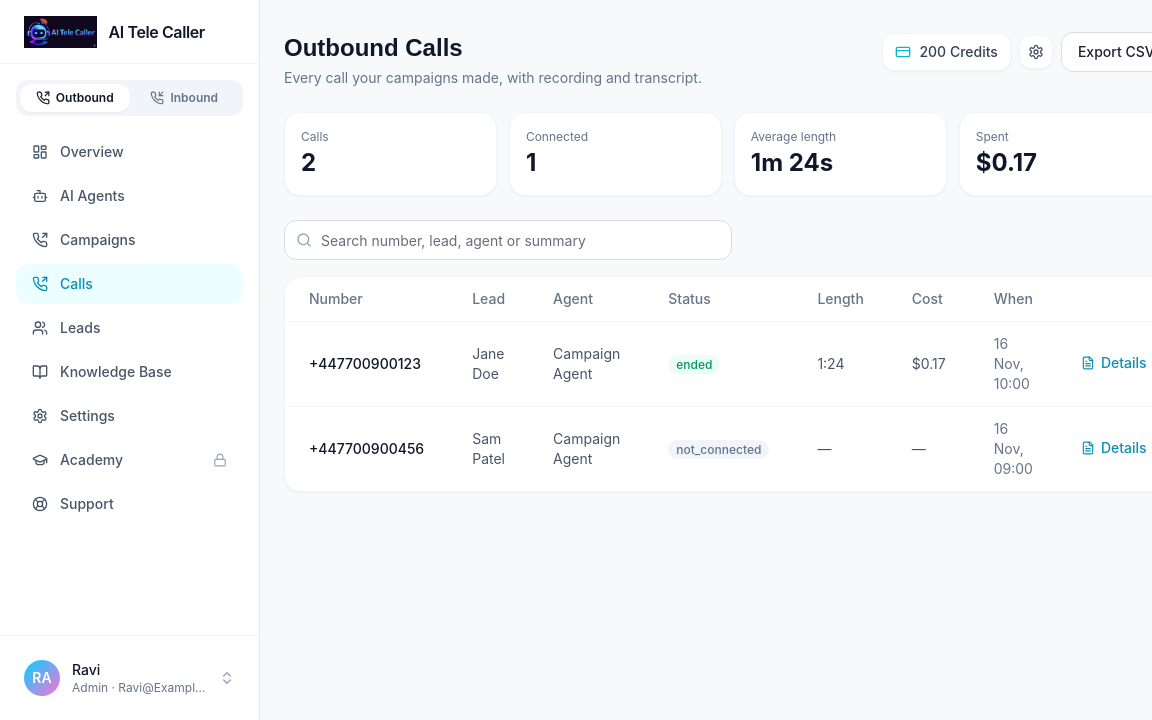
Test: the outbound call log › Details opens the recording and transcript
Expected: the text "Jane Doe" is shown, [448,322,529,406]
Click the button "Details" in the row of "+447700900123". click: x=1114, y=363
box: [1081,353,1147,373]
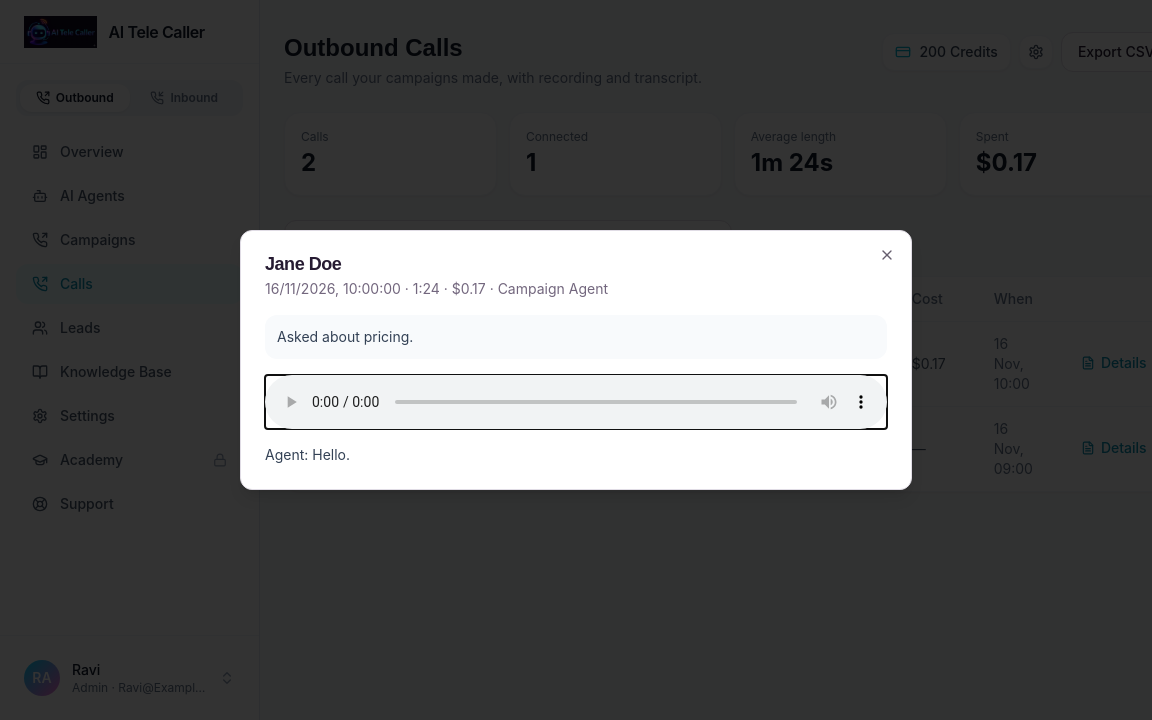
Expected: the text "Agent: Hello." is shown, [265,446,350,463]
